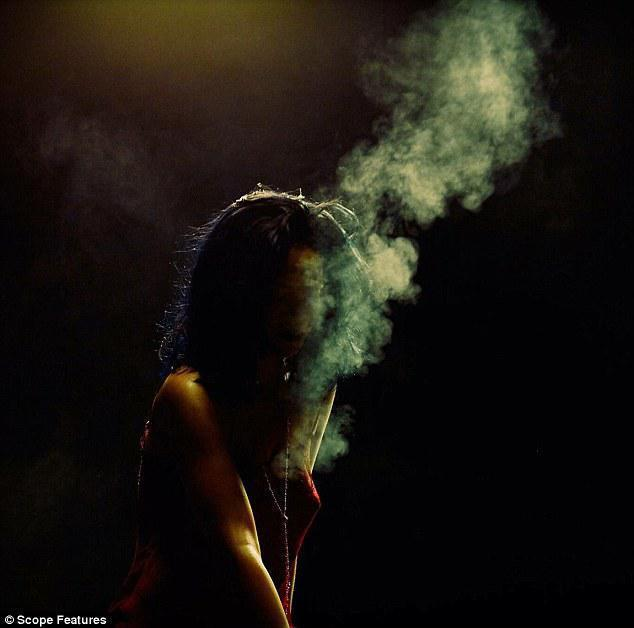smoke: (299, 0, 563, 404)
